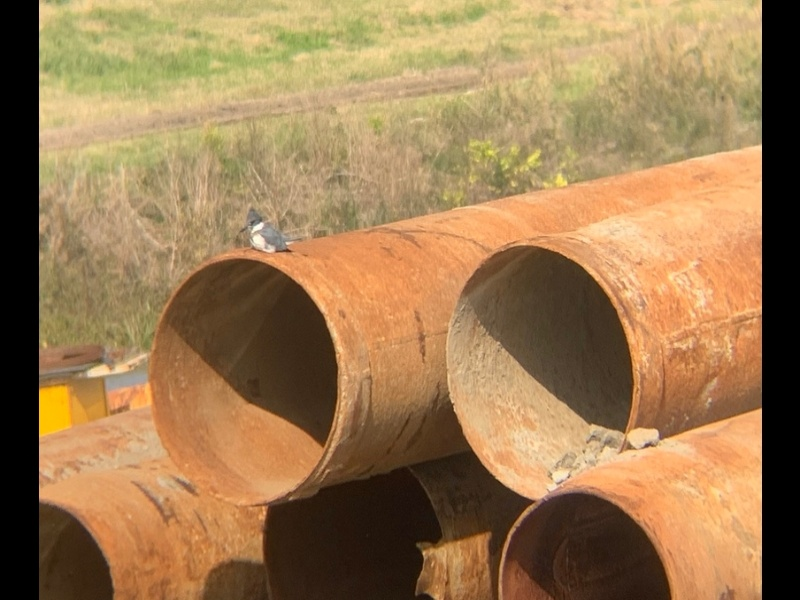kingfisher: (238, 206, 292, 254)
